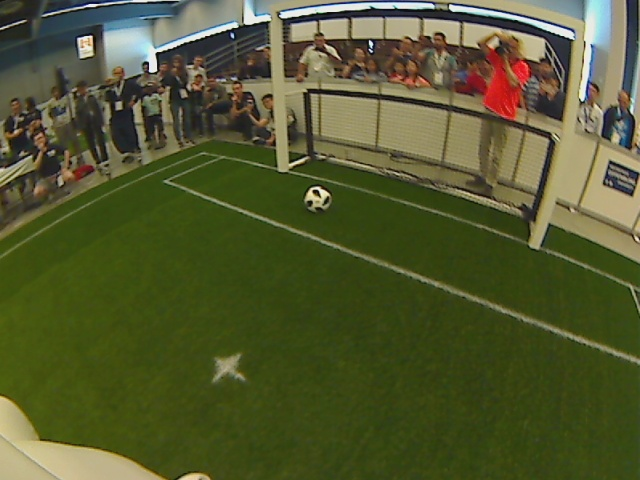ball: (302, 185, 332, 213)
